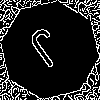J: (25, 25, 72, 77)
